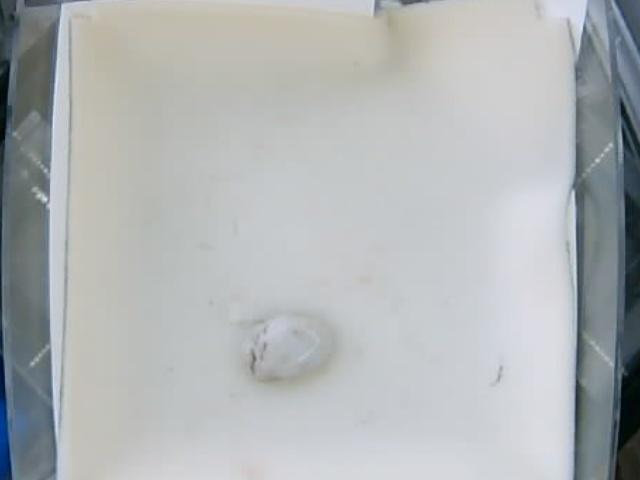Pebble: (244, 311, 337, 384)
